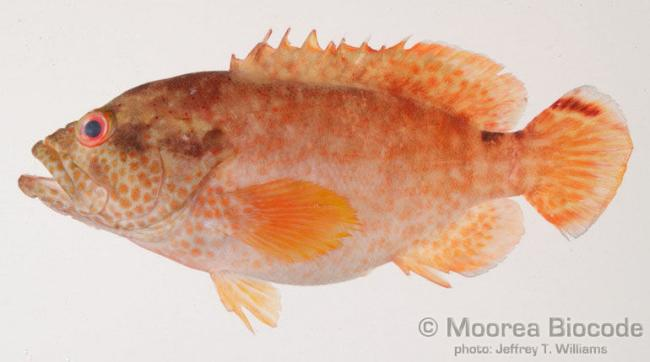fish: (16, 28, 634, 333)
